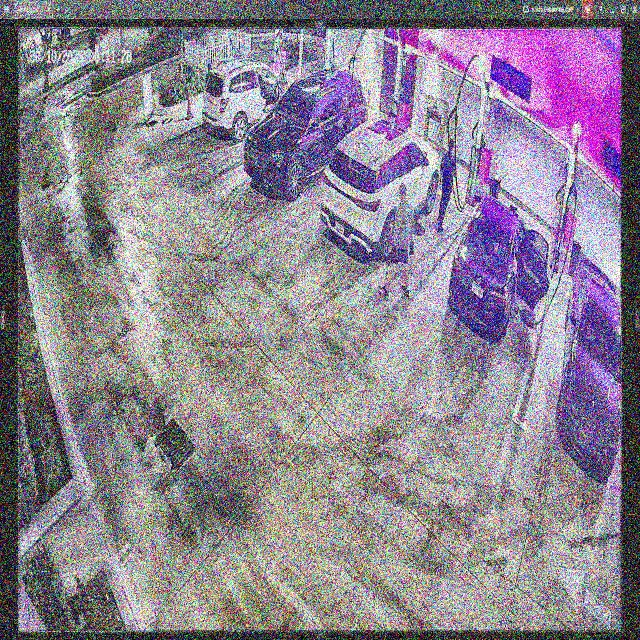Car: (319, 117, 440, 256), (248, 69, 360, 195), (448, 195, 542, 340)
